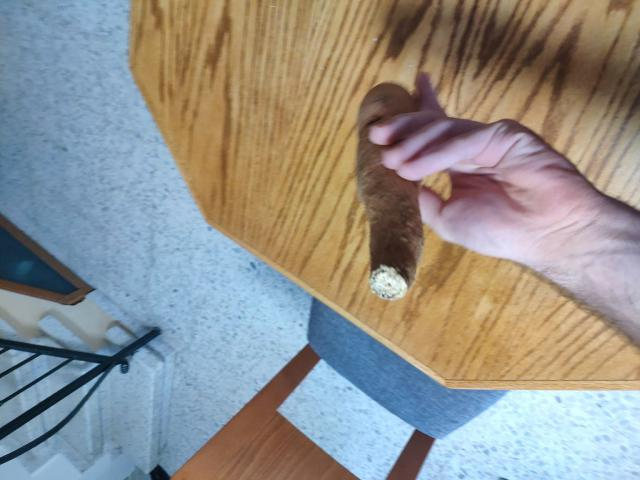sweet_potato: (334, 99, 416, 274)
